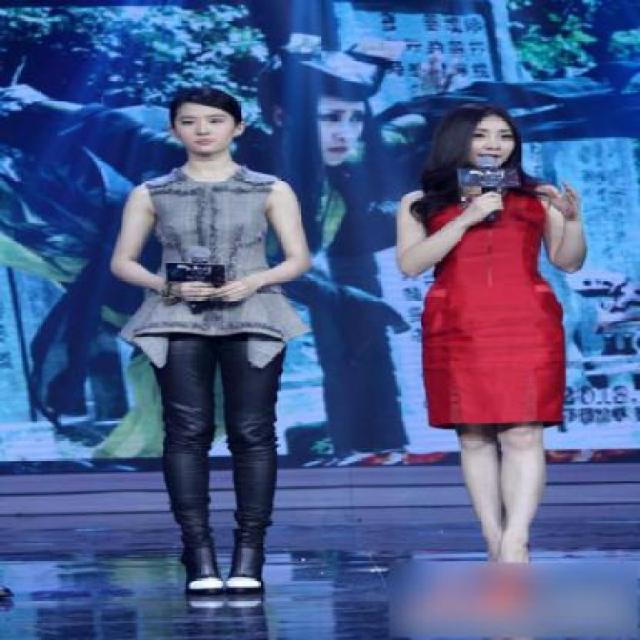Person: (109, 77, 297, 628), (408, 92, 564, 531)
